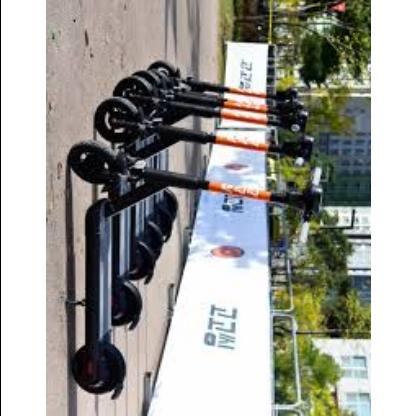bike: (67, 59, 325, 414)
traffic light: (71, 185, 179, 399)
